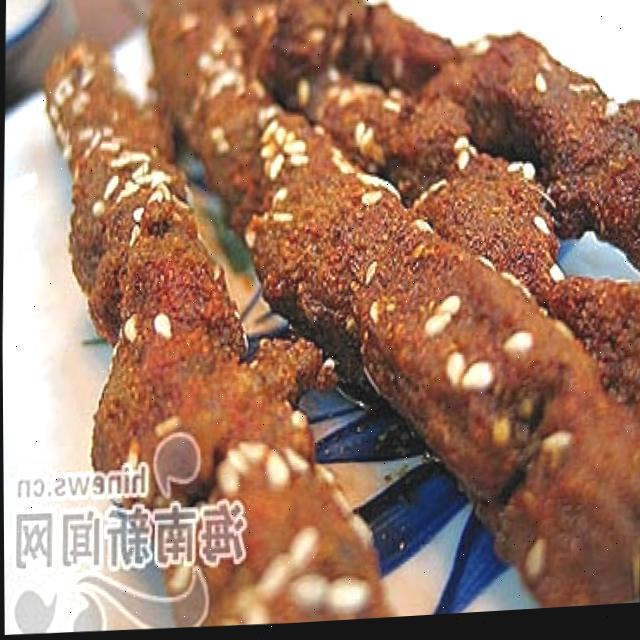烧串烤肉: (37, 0, 640, 638)
